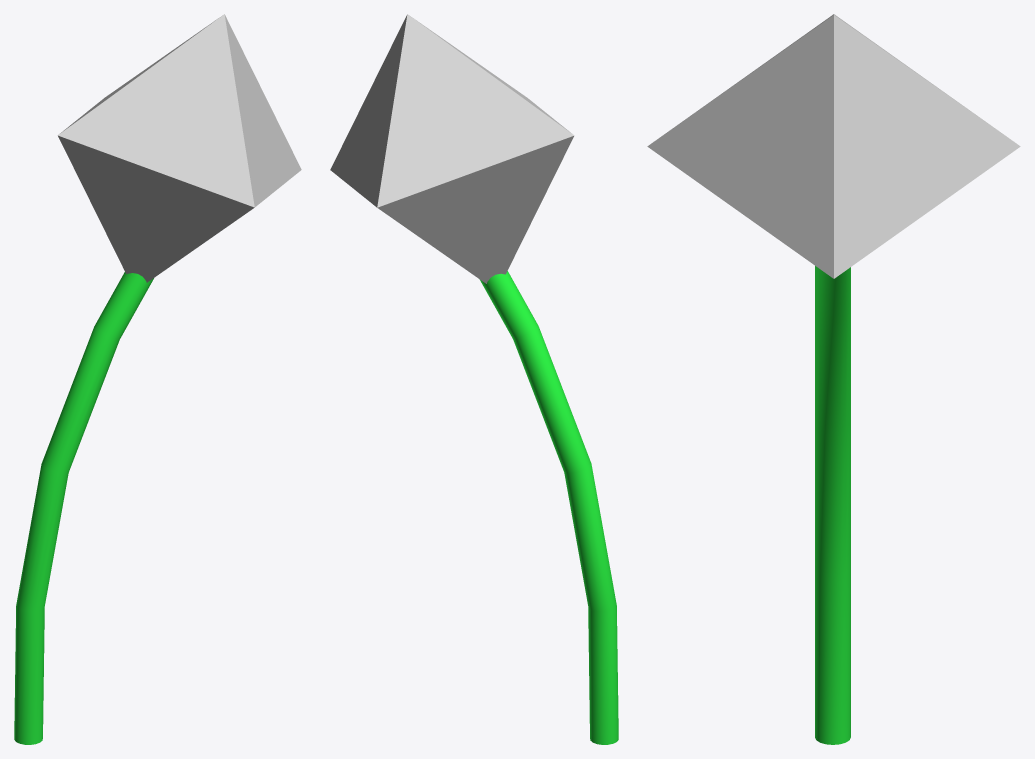
File: flower.glb
3 views of the same model, side by side, from view 1: azimuth 30°, elevation 25°; view 2: azimuth 150°, elevation 25°; view 3: azimuth 270°, elevation 25° (orthographic). The views are drawn at different scales.
Visible parts, largest first — view 1: Sphere, Cylinder; view 2: Sphere, Cylinder; view 3: Sphere, Cylinder.
Part boxes in pixels (<box>): Sphere: <box>57,14,301,282</box>; Cylinder: <box>14,272,153,744</box>; Sphere: <box>330,14,574,283</box>; Cylinder: <box>479,271,618,744</box>; Sphere: <box>647,14,1020,278</box>; Cylinder: <box>815,266,850,744</box>.
Bounding box in the file's own units: 0.7534 × 1.7 × 0.6849.
